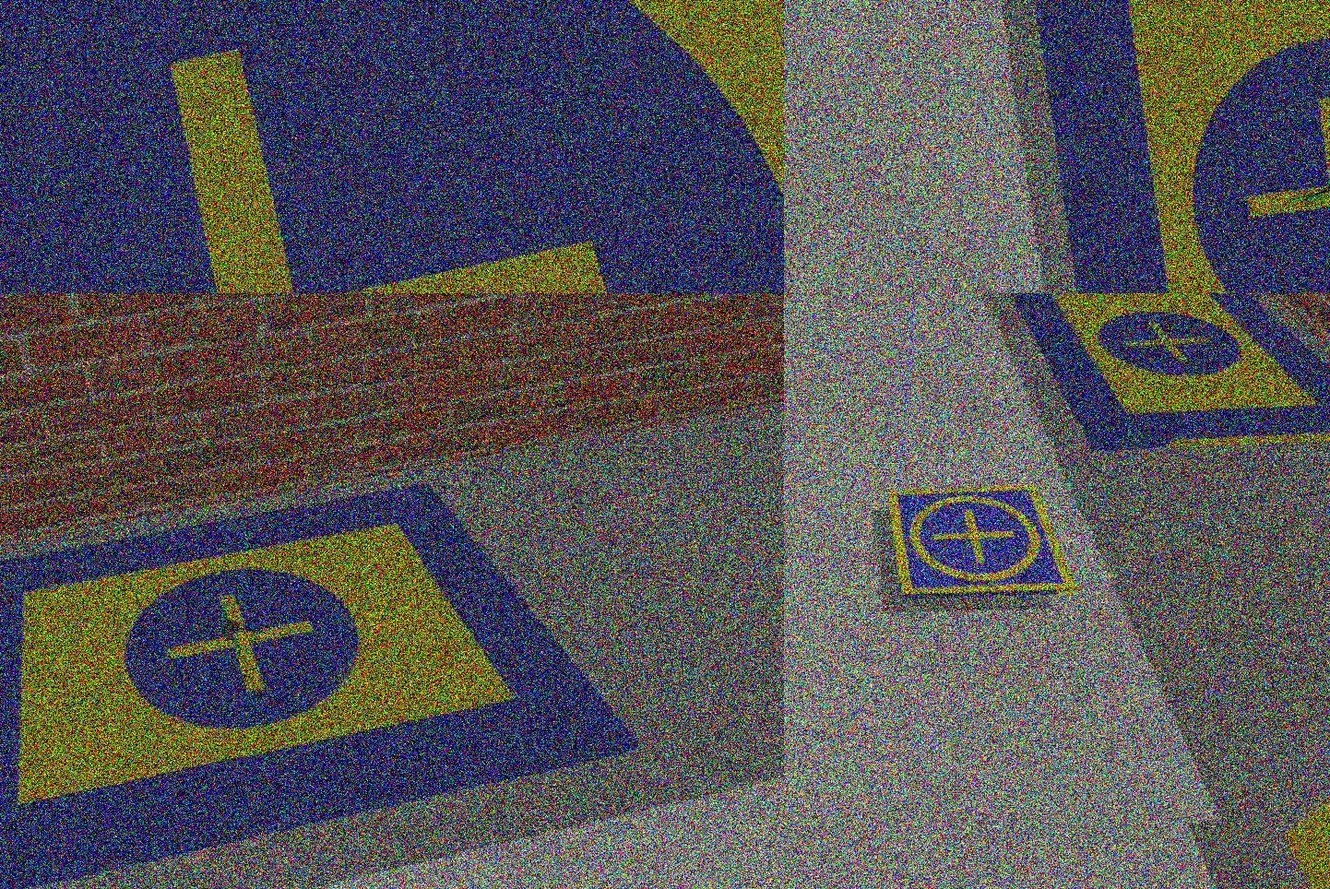large_base: (1, 461, 654, 889), (1, 1, 784, 293), (1006, 1, 1330, 293), (1003, 293, 1330, 475)
small_base: (883, 471, 1078, 616)
